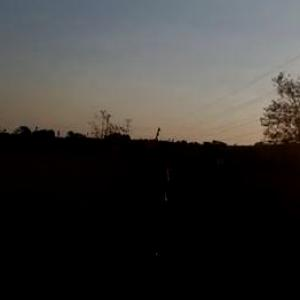follow: (110, 144, 199, 299)
